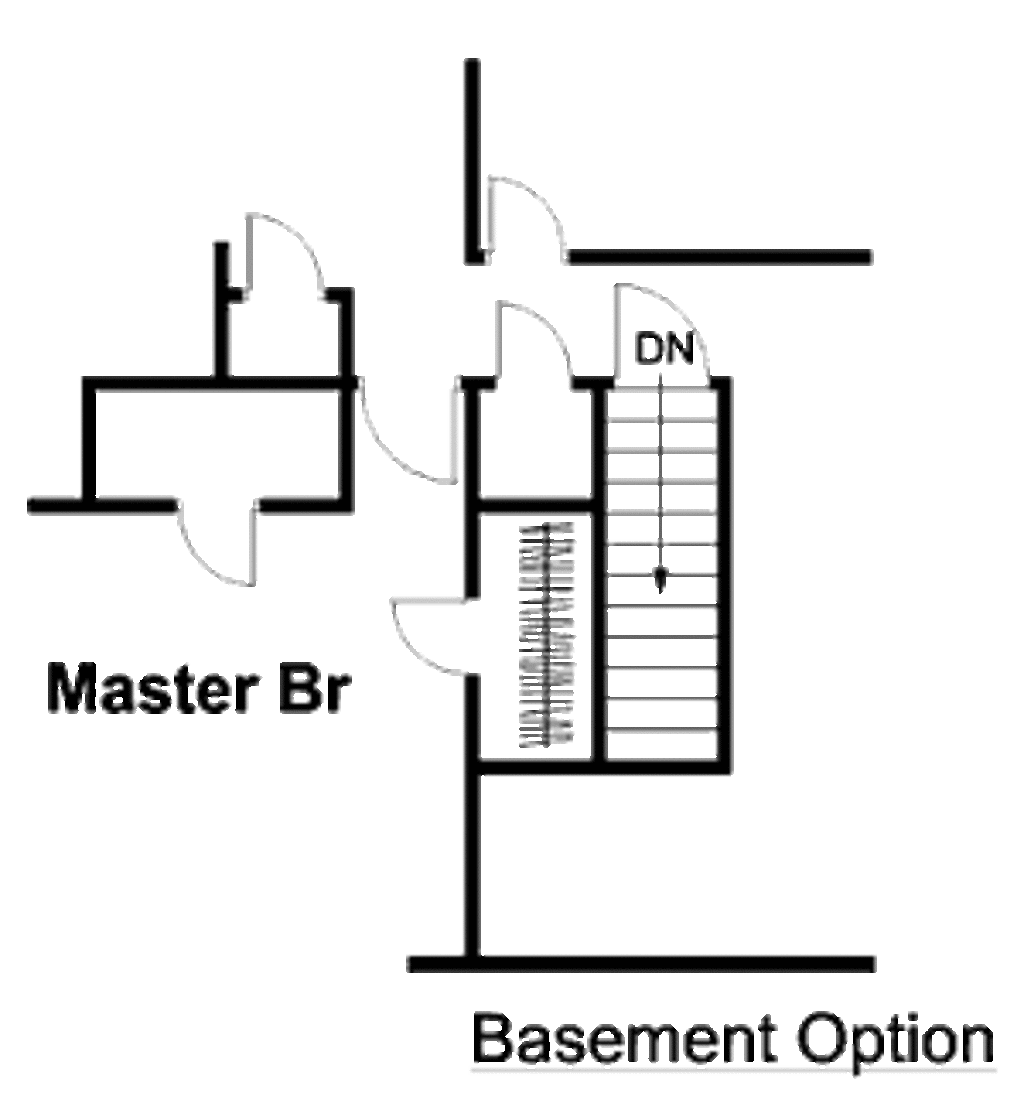door: (607, 266, 729, 389), (359, 381, 472, 488), (164, 493, 284, 593), (230, 199, 344, 304), (370, 584, 477, 684), (477, 168, 579, 263), (490, 301, 577, 386)
stairs: (605, 386, 745, 768)
